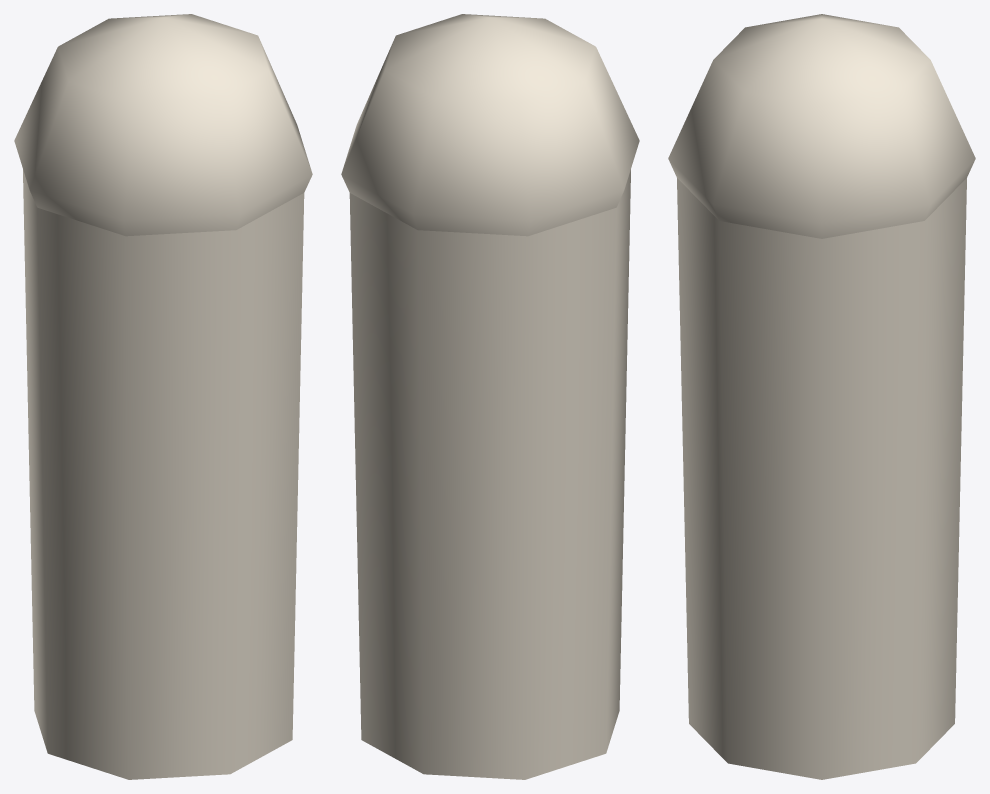
Rendered from PFlor_Brazo.obj.
The picture shows the model from 3 angles, left to right: view 1: azimuth 30°, elevation 25°; view 2: azimuth 150°, elevation 25°; view 3: azimuth 270°, elevation 25°; orthographic projection.
Parts seen in each view (by area): view 1: Brazo; view 2: Brazo; view 3: Brazo.
Boxes of the visible parts, x1,y1,x2,y2 form: Brazo: [14, 14, 312, 779]; Brazo: [341, 14, 639, 779]; Brazo: [668, 14, 975, 779].
Bounding box in the file's own units: 0.074 × 0.187 × 0.074.
Materials: 1 (1 with a texture image).
